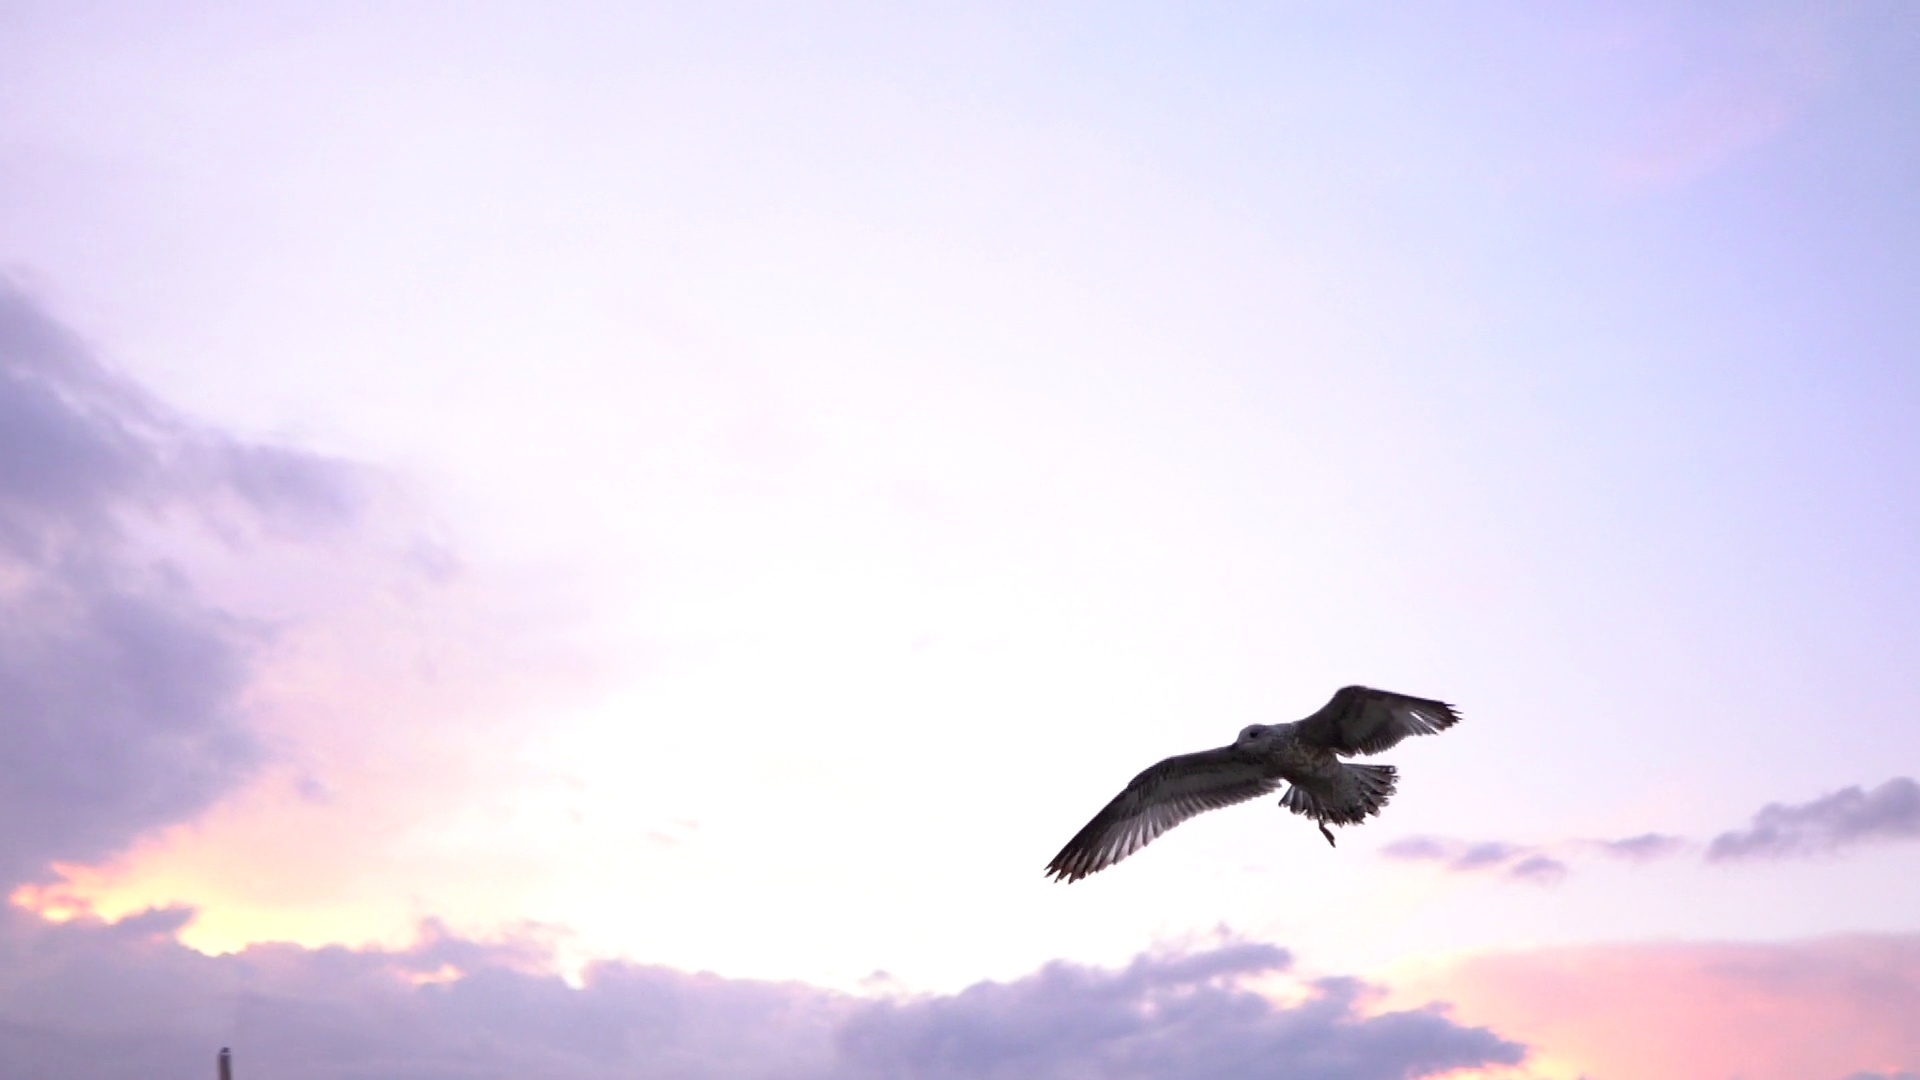bird: (1047, 684, 1460, 881)
